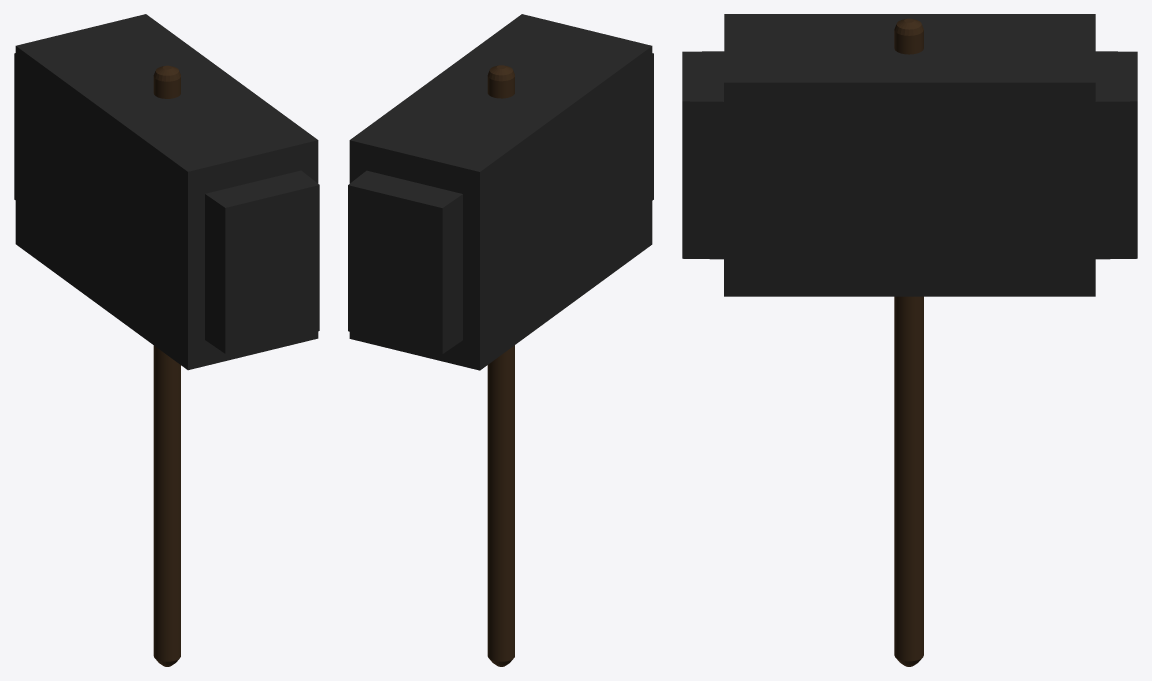
File: Paladin_Hammer_Projectile.fbx
3 renders of one model, left to right at view 1: azimuth 30°, elevation 25°; view 2: azimuth 150°, elevation 25°; view 3: azimuth 270°, elevation 25°, orthographic. The views are drawn at different scales.
Visible parts, largest first — view 1: polySurface1, pCylinder1; view 2: polySurface1, pCylinder1; view 3: polySurface1, pCylinder1.
Part boxes in pixels (left/top/right/bottom): polySurface1: left=14, top=14, right=319, bottom=370; pCylinder1: left=153, top=65, right=180, bottom=666; polySurface1: left=348, top=14, right=653, bottom=370; pCylinder1: left=487, top=65, right=514, bottom=666; polySurface1: left=682, top=14, right=1137, bottom=296; pCylinder1: left=894, top=18, right=923, bottom=666.
Bounding box in the file's own units: 1.37 × 6 × 3.85.
2 materials, 2 textured.
